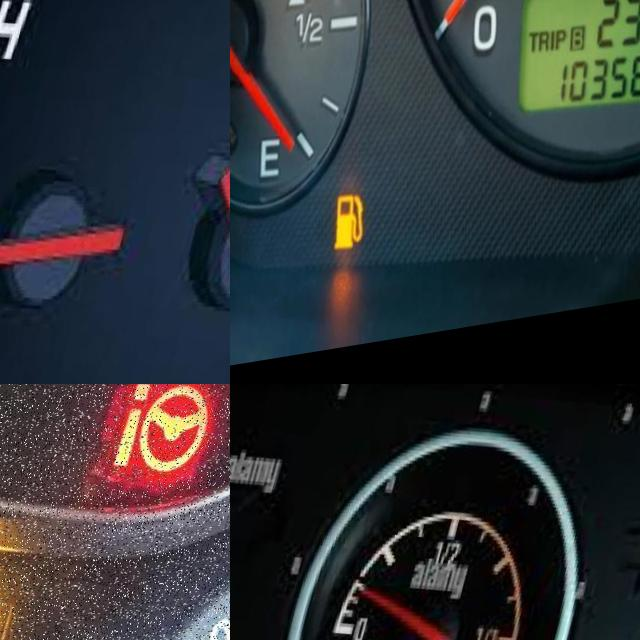Electronic Power Steering: (102, 384, 225, 514)
